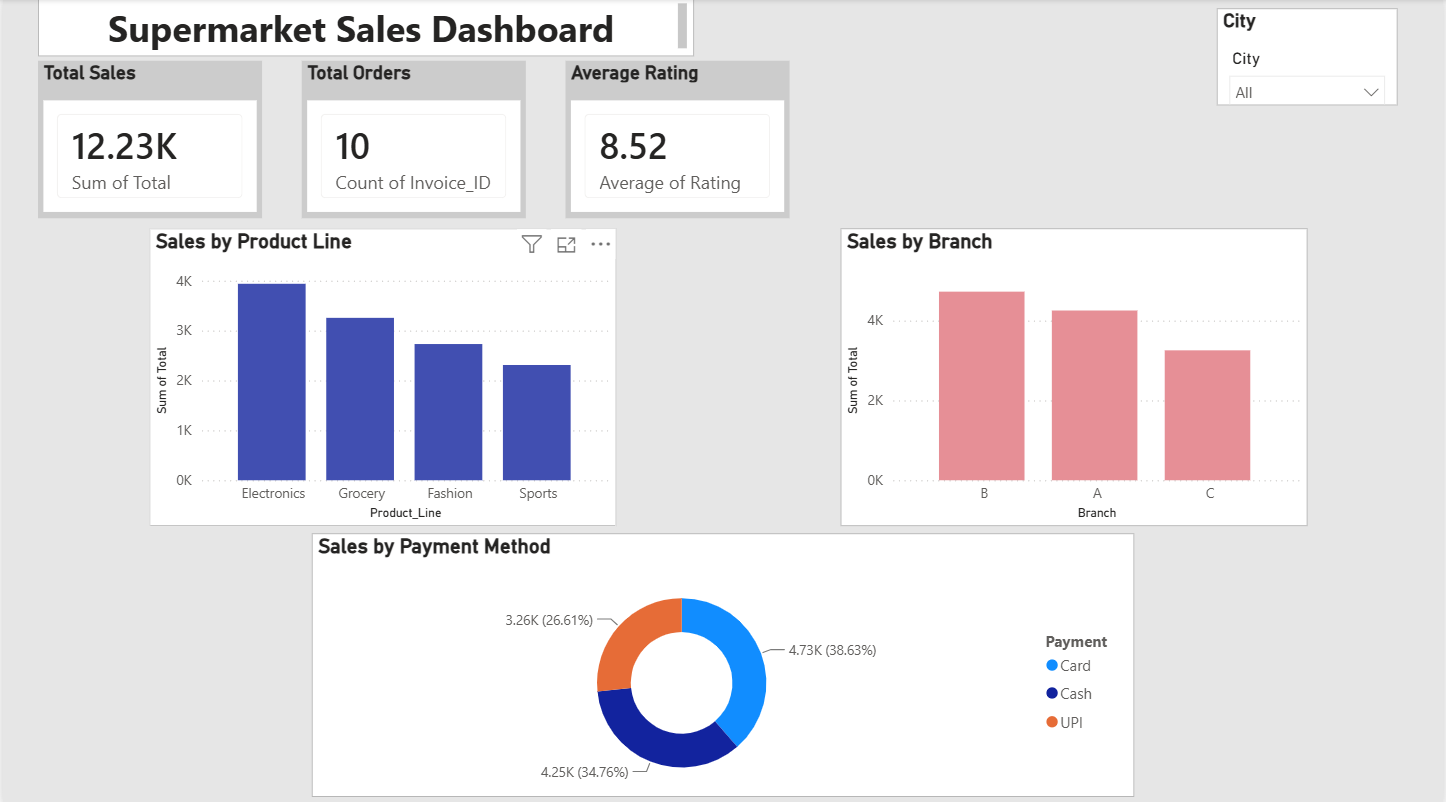

This screenshot's page, from the dashboard's own definition file:
{"tool":"powerbi","page":{"name":"Page 1","canvas":[1280,720],"ordinal":0},"visuals":[{"type":"cardVisual","title":"Total Sales","fields":{"Data":["Sum(supermarket_sales.Total)"]},"box":[31.6,56.3,199,140],"z":0},{"type":"cardVisual","title":"Total Orders","fields":{"Data":["CountNonNull(supermarket_sales.Invoice_ID)"]},"box":[265.5,56.3,199,140],"z":1000},{"type":"cardVisual","title":"Average Rating","fields":{"Data":["Avg(supermarket_sales.Rating)"]},"box":[499.5,56.3,199,140],"z":2000},{"type":"clusteredColumnChart","title":"Sales by Product Line","fields":{"Category":["supermarket_sales.Product_Line"],"Y":["Sum(supermarket_sales.Total)"]},"box":[130.1,205.8,415,265],"z":3000},{"type":"clusteredColumnChart","title":"Sales by Branch","fields":{"Category":["supermarket_sales.Branch"],"Y":["Sum(supermarket_sales.Total)"]},"box":[744.8,205.8,415,265],"z":4000},{"type":"slicer","title":"City","fields":{"Values":["supermarket_sales.City"]},"box":[1078.6,9.6,160.5,86.4],"z":5000},{"type":"textbox","box":[31.1,0,583.3,53],"z":6000},{"type":"donutChart","title":"Sales by Payment Method","fields":{"Category":["supermarket_sales.Payment"],"Y":["Sum(supermarket_sales.Total)"]},"box":[274.4,476.2,731.4,234.6],"z":7000}]}

Visuals, with their boxes in screenshot pixels (x1, y1, x2, y2), scaled from the page's 1280x720 canvas onto the 1446x802 screenshot:
"Total Sales" cardVisual: <bbox>36, 63, 261, 219</bbox>
"Total Orders" cardVisual: <bbox>300, 63, 525, 219</bbox>
"Average Rating" cardVisual: <bbox>564, 63, 789, 219</bbox>
"Sales by Product Line" clusteredColumnChart: <bbox>147, 229, 616, 524</bbox>
"Sales by Branch" clusteredColumnChart: <bbox>841, 229, 1310, 524</bbox>
"City" slicer: <bbox>1218, 11, 1400, 107</bbox>
textbox: <bbox>35, 0, 694, 59</bbox>
"Sales by Payment Method" donutChart: <bbox>310, 530, 1136, 792</bbox>
